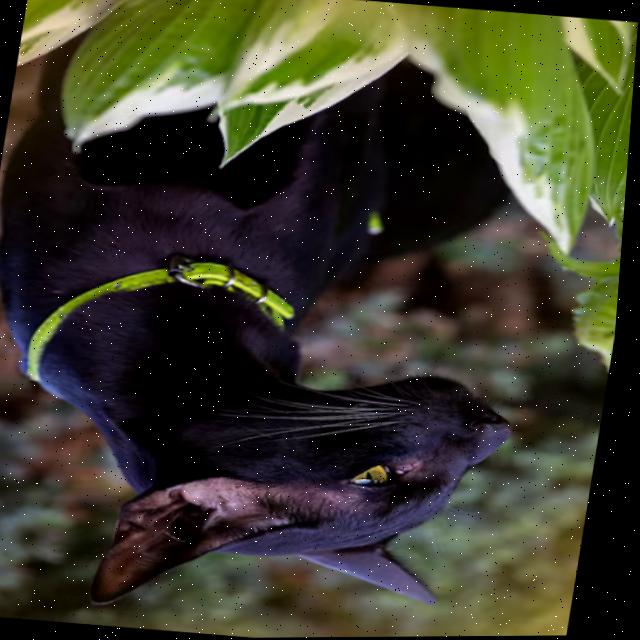Oriental: (0, 19, 583, 640)
